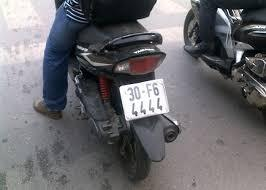number_plate: (118, 81, 177, 119)
